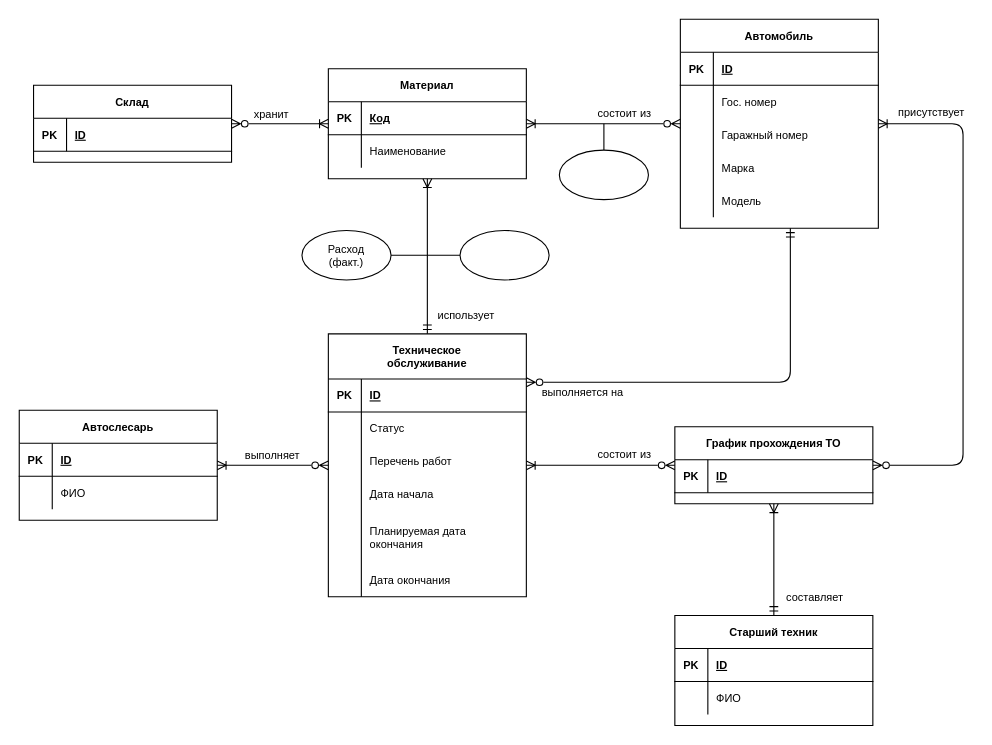
Image size: 992x745. Some labels were removed from this diagram. The shapes that lost their labels are listed below. From the top down, each one's centre as x and y in pixels, then its label:
At pixel 603 174: "Степень износа".
At pixel 504 254: "Расход (теор.)".
